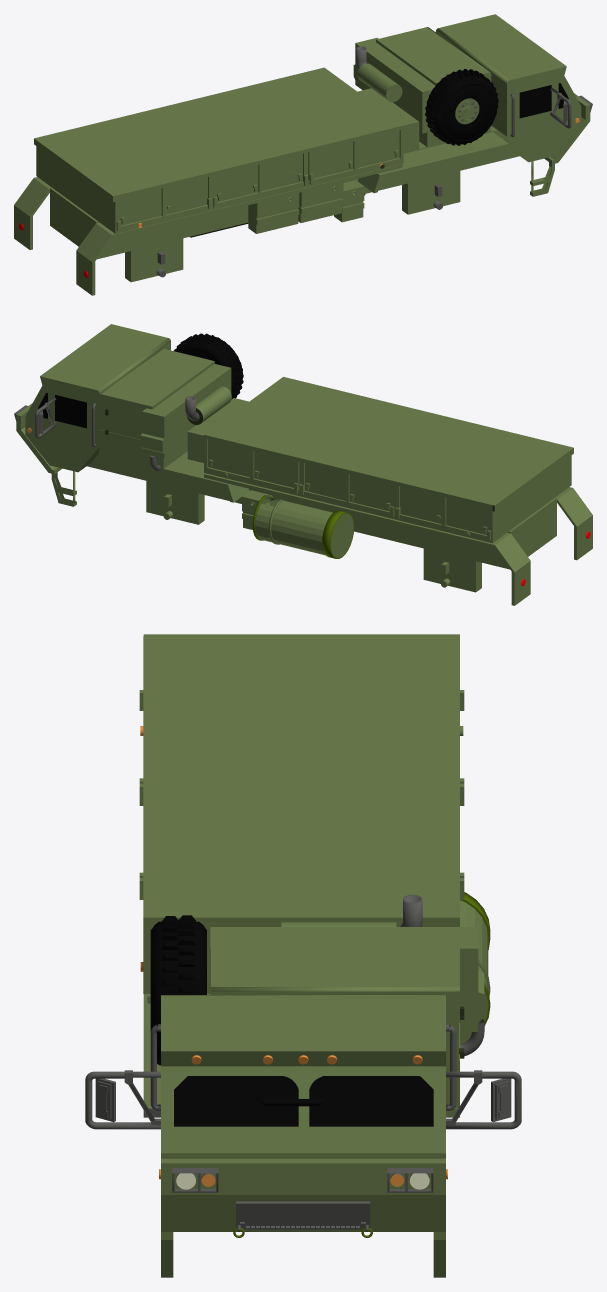
File: body_dynamic.dae
The picture shows the model from 3 angles, top to bottom: view 1: azimuth 30°, elevation 25°; view 2: azimuth 150°, elevation 25°; view 3: azimuth 270°, elevation 25°; orthographic projection. The views are drawn at different scales.
Visible parts, largest first — view 1: SketchUp_033; view 2: SketchUp_033; view 3: SketchUp_033.
Part boxes in pixels (x1=…): SketchUp_033: x1=14, y1=14, x2=592, y2=295; SketchUp_033: x1=14, y1=324, x2=592, y2=605; SketchUp_033: x1=85, y1=634, x2=521, y2=1277.
Size of the model in its own units: 11.96 by 4.45 by 3.1.
